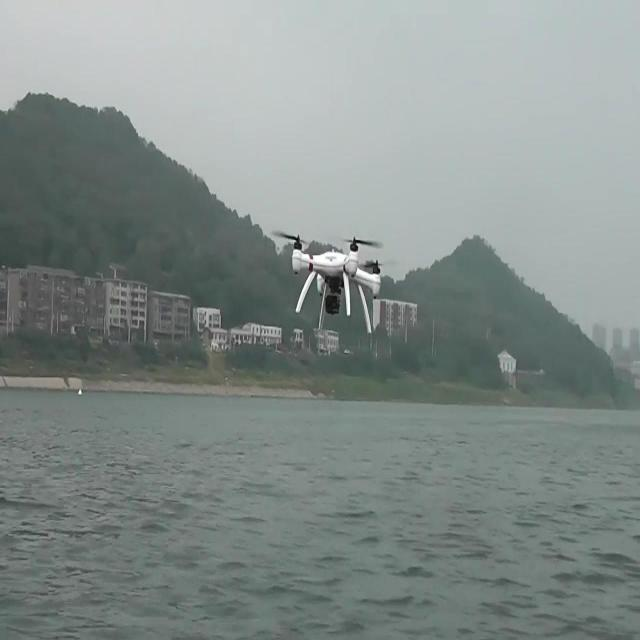UAV: (284, 231, 382, 337)
